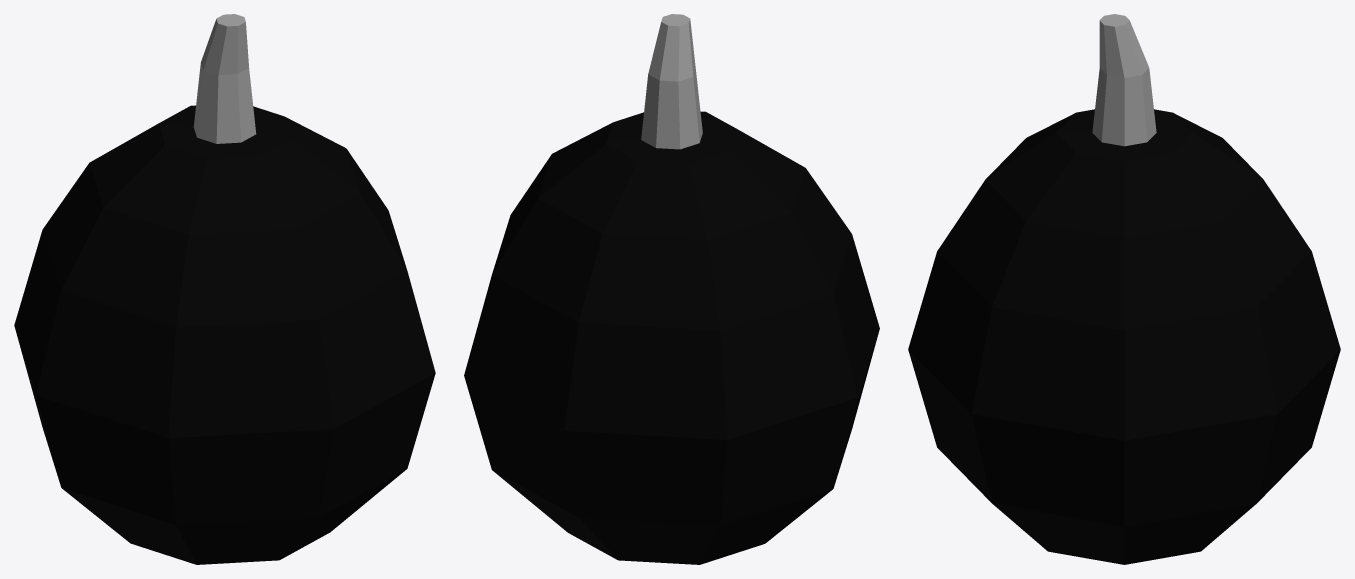
File: Bomb.fbx
3 renders of one model, left to right at view 1: azimuth 30°, elevation 25°; view 2: azimuth 150°, elevation 25°; view 3: azimuth 270°, elevation 25°, orthographic.
Parts seen in each view (by area): view 1: Sphere; view 2: Sphere; view 3: Sphere.
Part boxes in pixels (<box>): Sphere: <box>14,14,435,564</box>; Sphere: <box>464,14,879,564</box>; Sphere: <box>908,14,1340,564</box>.
Bounding box in the file's own units: 200 × 268 × 200.
1 material, 1 textured.
